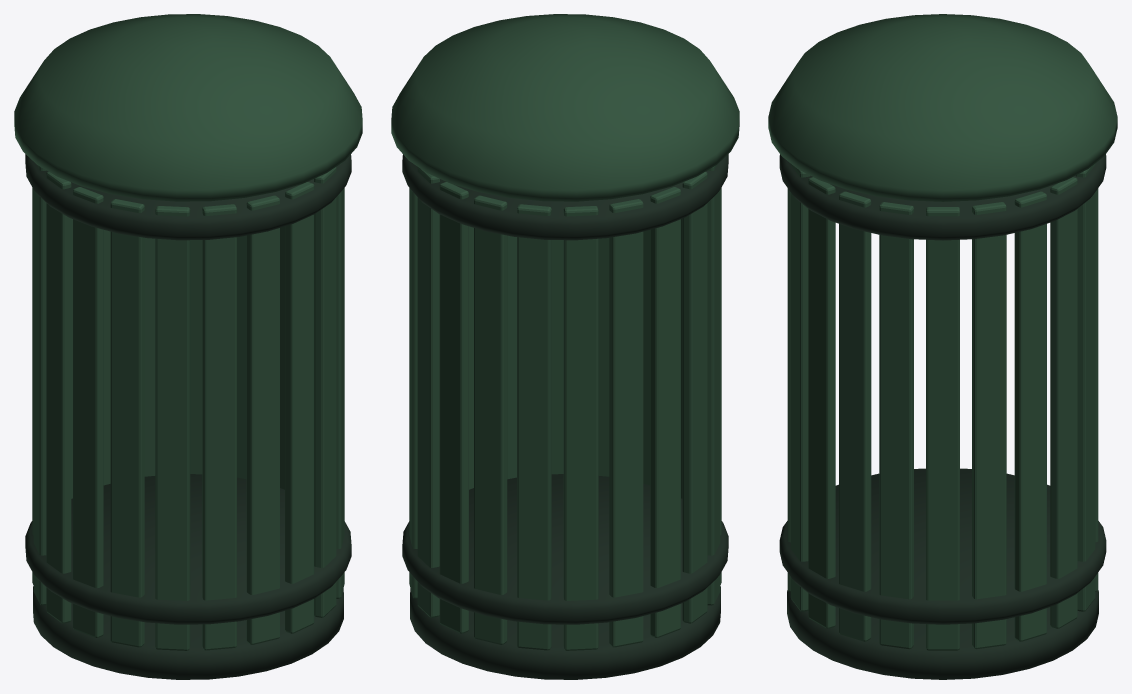
File: trash_bin.glb
3 renders of one model, left to right at view 1: azimuth 30°, elevation 25°; view 2: azimuth 150°, elevation 25°; view 3: azimuth 270°, elevation 25°, orthographic.
Parts seen in each view (by area): view 1: trash_bin; view 2: trash_bin; view 3: trash_bin.
Part boxes in pixels (x1,y1,x2,y2): trash_bin: [14, 14, 362, 679]; trash_bin: [391, 14, 739, 679]; trash_bin: [768, 14, 1117, 679].
Size of the model in its own units: 0.56 by 1.02 by 0.56.
